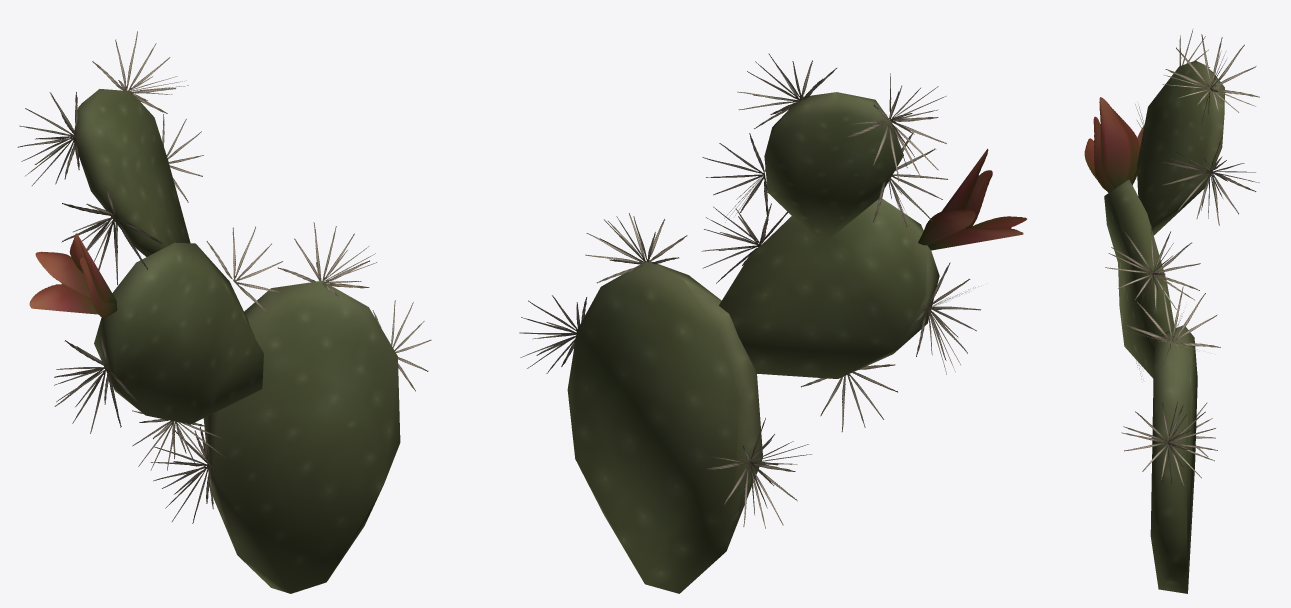
File: Scene_Tree_XianRenZhang_5.FBX
The picture shows the model from 3 angles, left to right: view 1: azimuth 30°, elevation 25°; view 2: azimuth 150°, elevation 25°; view 3: azimuth 270°, elevation 25°; orthographic projection. The views are drawn at different scales.
Parts seen in each view (by area): view 1: Scene_Tree_XianRenZhang_5a, Scene_Tree_XianRenZhang_5b; view 2: Scene_Tree_XianRenZhang_5a, Scene_Tree_XianRenZhang_5b; view 3: Scene_Tree_XianRenZhang_5a, Scene_Tree_XianRenZhang_5b.
Boxes of the visible parts, box(x1,y1,x2,y2) form: Scene_Tree_XianRenZhang_5a: box(73, 89, 400, 593); Scene_Tree_XianRenZhang_5b: box(17, 31, 431, 523); Scene_Tree_XianRenZhang_5a: box(567, 92, 939, 593); Scene_Tree_XianRenZhang_5b: box(519, 53, 1026, 528); Scene_Tree_XianRenZhang_5a: box(1104, 60, 1224, 593); Scene_Tree_XianRenZhang_5b: box(1084, 29, 1259, 485).
Bounding box in the file's own units: 139 × 170 × 67.63.
